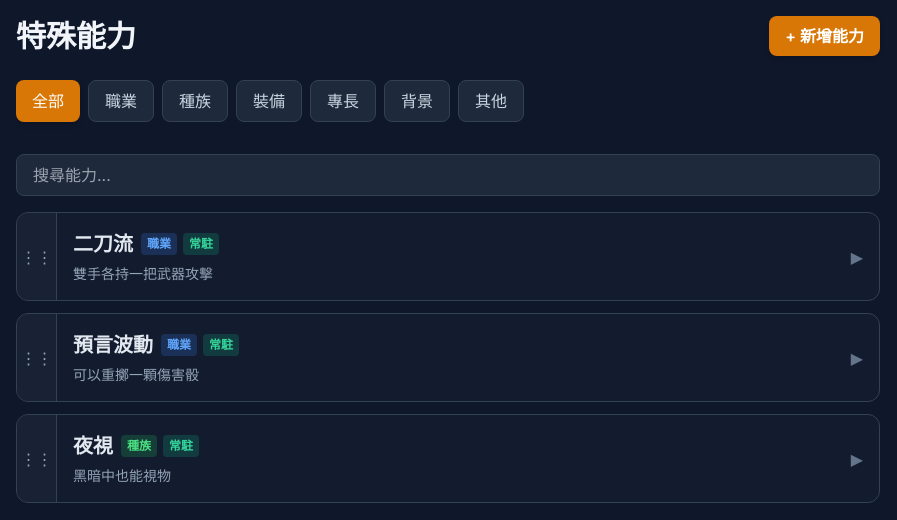
AbilitiesPage - 搜尋列 › 輸入名稱關鍵字只篩出符合的能力
This screenshot has width=897, height=520.
Expected: the heading "二刀流" is shown, [73,229,133,259]
Step 1. Type "二刀" into the field with placeholder "搜尋能力..." → (448, 175), box [16,154,880,196]
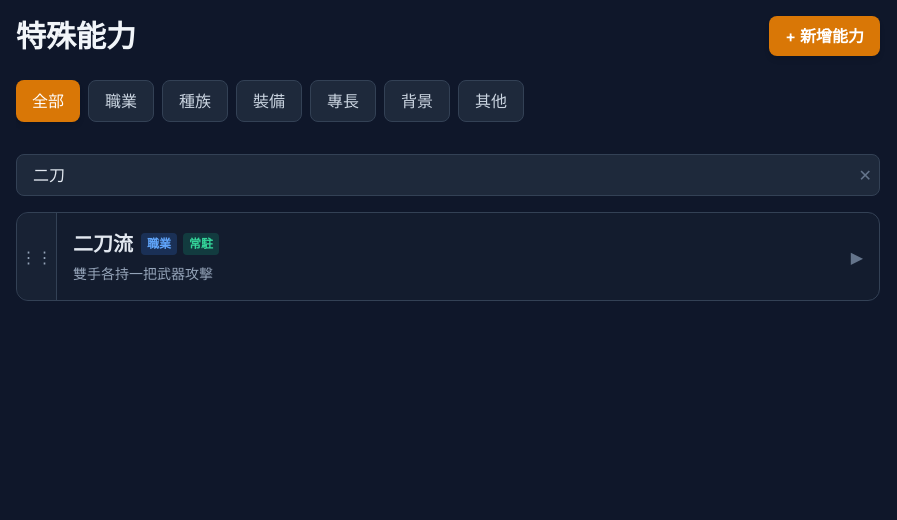
Expected: the heading "二刀流" is shown, [73,229,133,259]
Expected: the button "預言波動" is gone
Expected: the button "夜視" is gone
